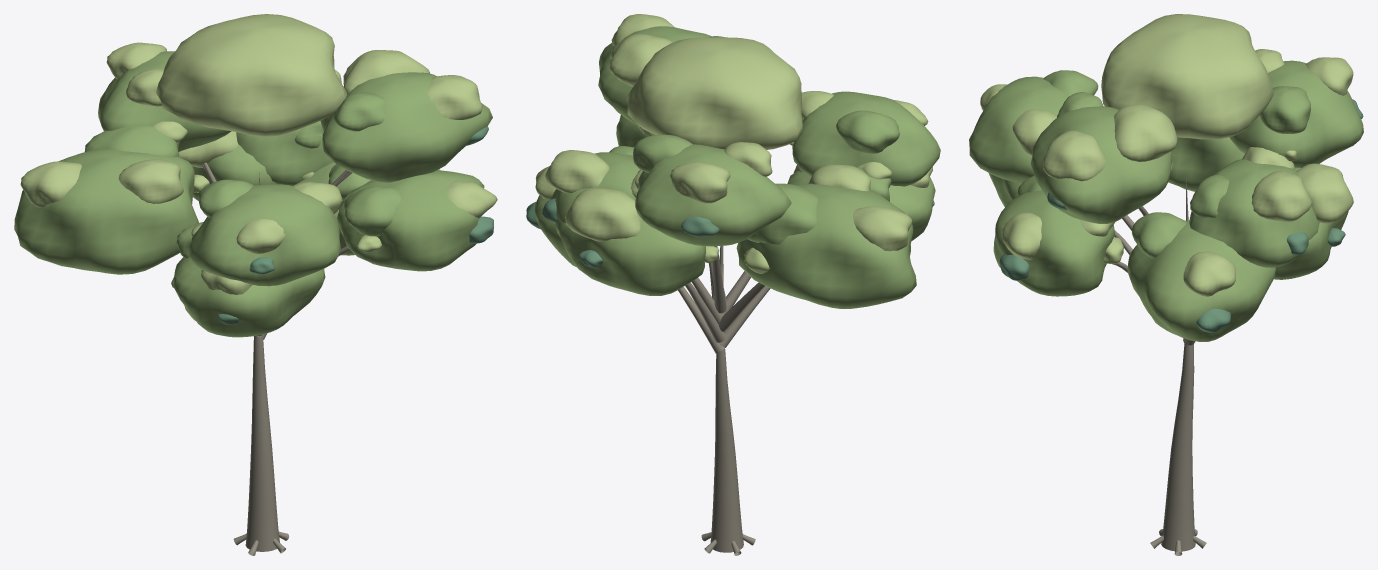
File: diotree11.glb
The picture shows the model from 3 angles, left to right: view 1: azimuth 30°, elevation 25°; view 2: azimuth 150°, elevation 25°; view 3: azimuth 270°, elevation 25°; orthographic projection. The views are drawn at different scales.
Parts seen in each view (by area): view 1: DioTree11_DioLeaf, DioTree11_DioLeafLight, DioTree11_Trunk, DioTree11_DioLeafShade; view 2: DioTree11_DioLeaf, DioTree11_DioLeafLight, DioTree11_Trunk, DioTree11_DioLeafShade; view 3: DioTree11_DioLeaf, DioTree11_DioLeafLight, DioTree11_Trunk, DioTree11_DioLeafShade.
Boxes of the visible parts, x1=… form: DioTree11_DioLeaf: x1=14, y1=51, x2=492, y2=337; DioTree11_DioLeafLight: x1=20, y1=14, x2=497, y2=294; DioTree11_Trunk: x1=201, y1=162, x2=351, y2=555; DioTree11_DioLeafShade: x1=217, y1=126, x2=493, y2=324; DioTree11_DioLeaf: x1=535, y1=26, x2=940, y2=308; DioTree11_DioLeafLight: x1=535, y1=14, x2=932, y2=273; DioTree11_Trunk: x1=678, y1=246, x2=770, y2=555; DioTree11_DioLeafShade: x1=526, y1=198, x2=934, y2=267; DioTree11_DioLeaf: x1=969, y1=60, x2=1363, y2=341; DioTree11_DioLeafLight: x1=980, y1=14, x2=1353, y2=296; DioTree11_Trunk: x1=1112, y1=173, x2=1206, y2=555; DioTree11_DioLeafShade: x1=999, y1=99, x2=1363, y2=332.
Bounding box in the file's own units: 11.2 × 13.43 × 9.32.
